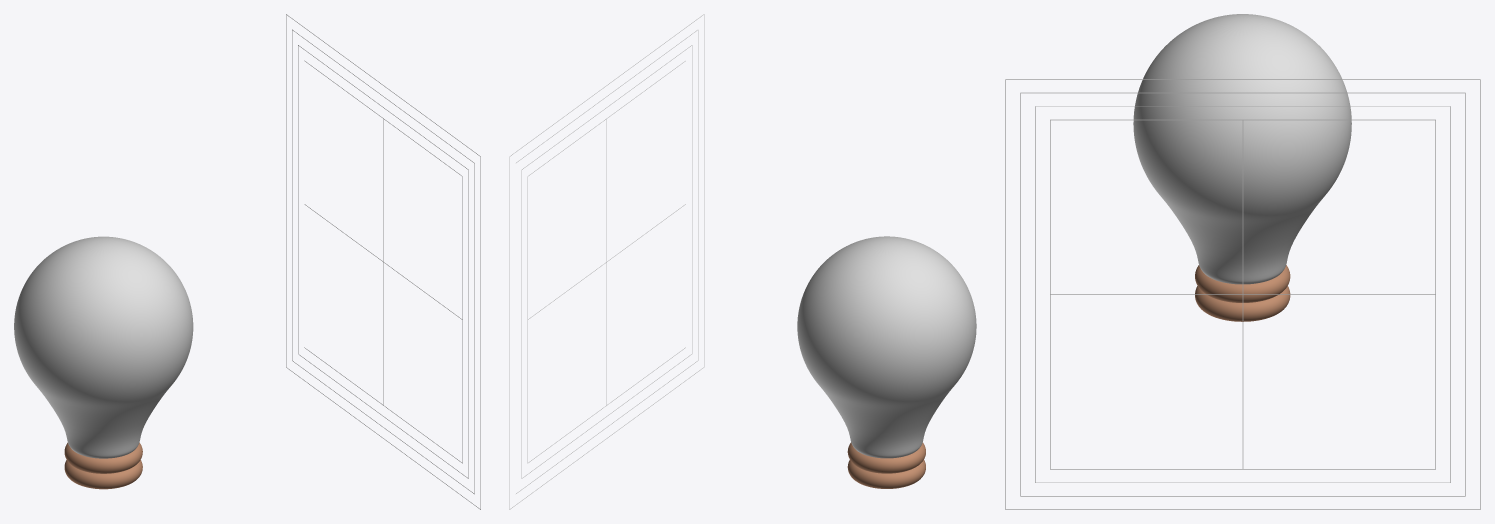
Rendered from bulb_no_light_03.fbx.
3 views of the same model, side by side, from view 1: azimuth 30°, elevation 25°; view 2: azimuth 150°, elevation 25°; view 3: azimuth 270°, elevation 25° (orthographic). The views are drawn at different scales.
Parts seen in each view (by area): view 1: Sphere, Grid, bulb ops1.001; view 2: Sphere, Grid, bulb ops1.001; view 3: Sphere, Grid, bulb ops1.001.
Part boxes in pixels (x1,y1,x2,y2): Sphere: [14, 236, 193, 458]; Grid: [286, 14, 480, 509]; bulb ops1.001: [64, 442, 142, 489]; Sphere: [797, 236, 976, 458]; Grid: [509, 14, 704, 509]; bulb ops1.001: [847, 442, 925, 488]; Sphere: [1133, 14, 1351, 284]; Grid: [1005, 79, 1480, 509]; bulb ops1.001: [1195, 265, 1290, 321].
Size of the model in its own units: 783 by 740 by 740.
